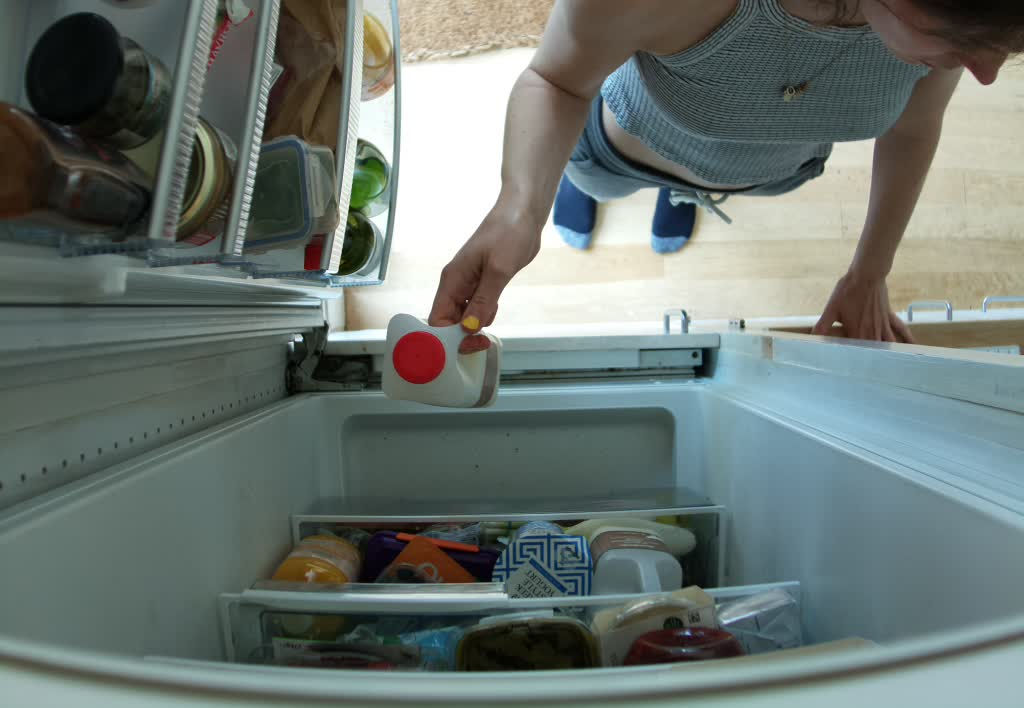milk: (375, 310, 505, 417)
